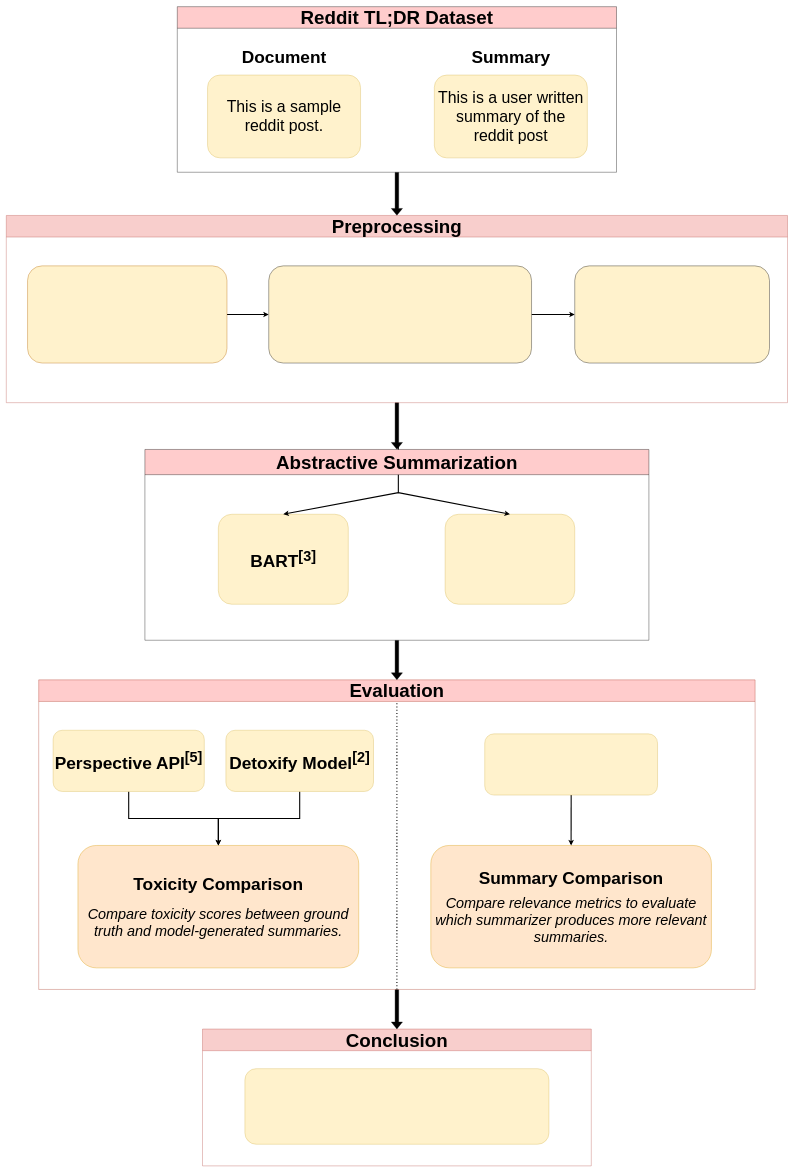
Image size: 794x1172. Some labels were removed from this diagram. The centre of each missing label's shape, as x and y in pixels:
"300 < Character Length < 6000 Character Length of the Document" goes at pixel 400 314.
"BERTScore Metric [6]" goes at pixel 571 764.
"Data Sampling Randomly sampled 20000 entries" goes at pixel 127 314.
"Detoxify Model [1] Select 1000 documents with higeshest Toxicity Scores" goes at pixel 672 314.
"Do LLMs lower toxicity in summaries while maintaining content fidelity?" goes at pixel 397 1106.
"T5 [4]" goes at pixel 510 559.
